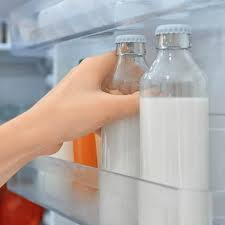milk: (139, 17, 211, 193), (99, 30, 147, 178)
